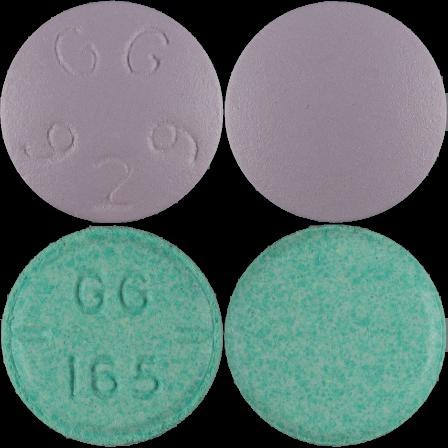63629-2642: (0, 0, 224, 224)
